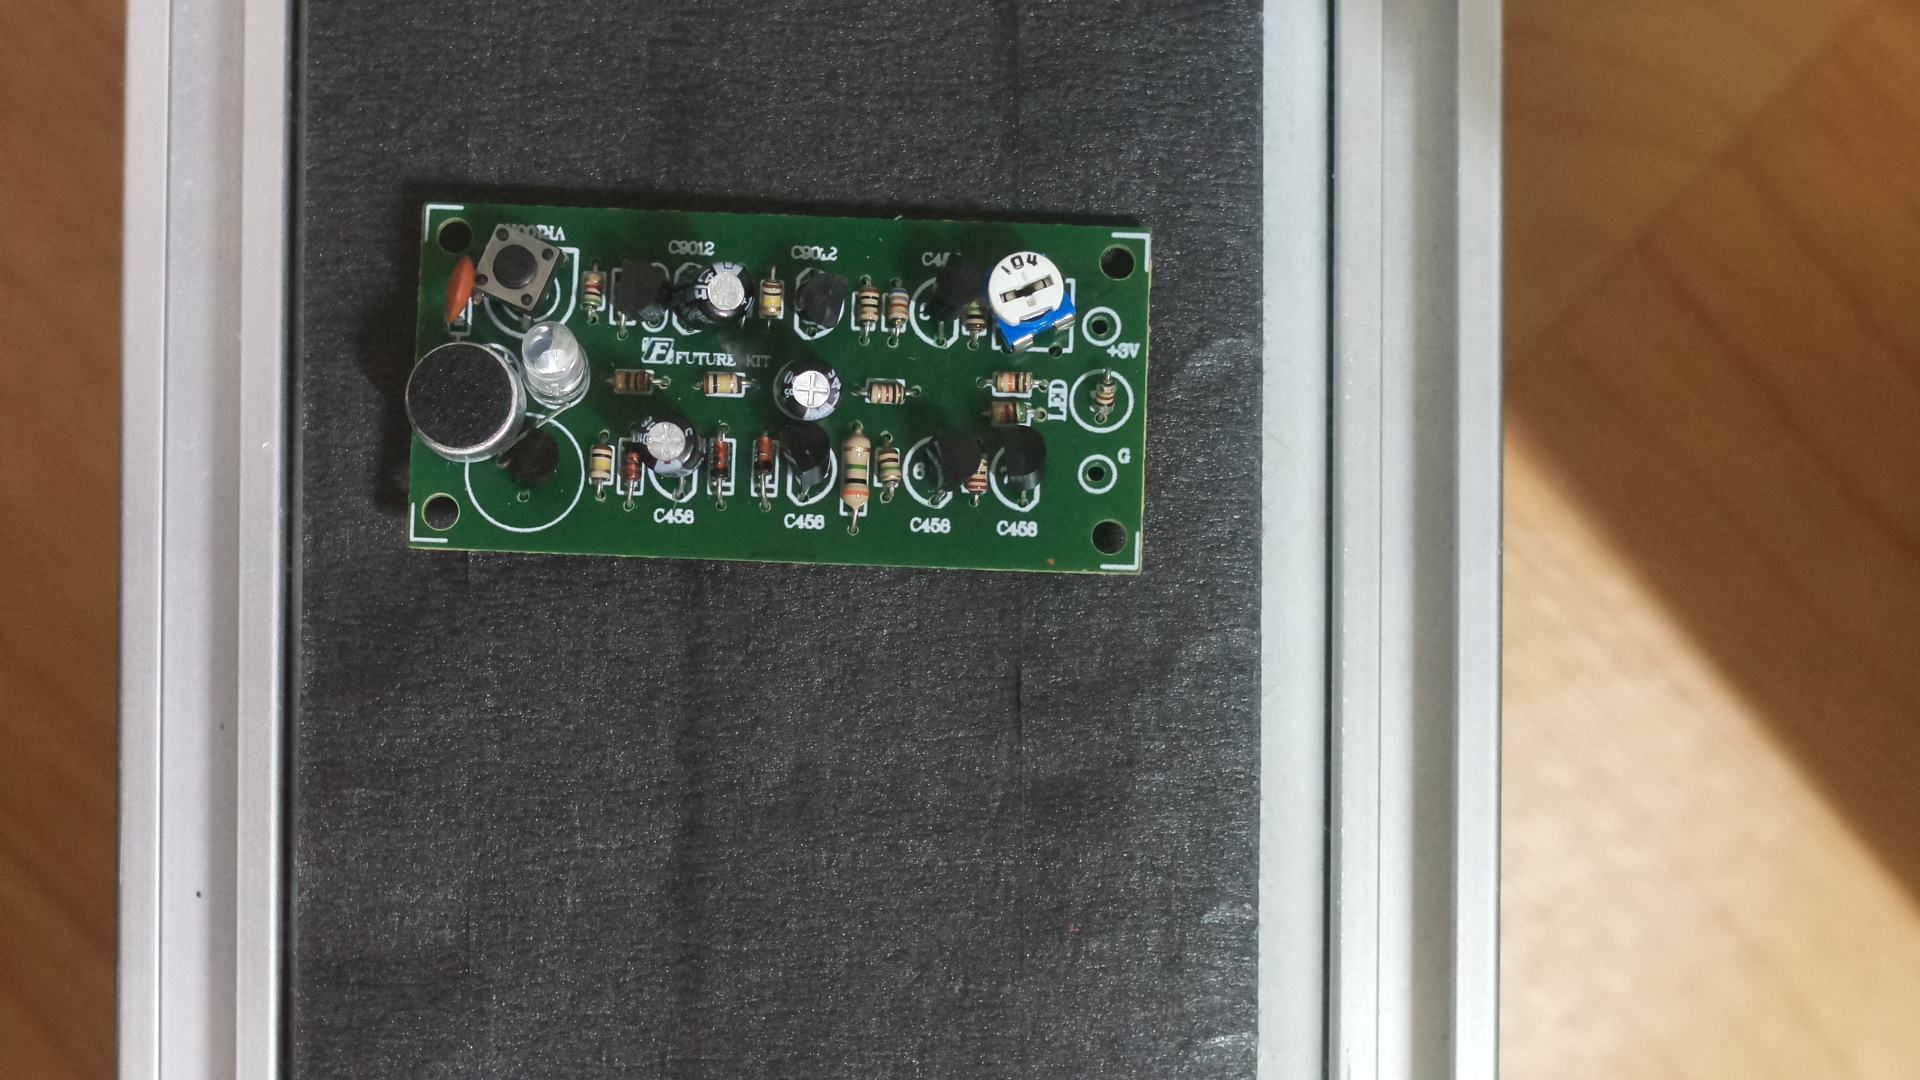A_Misordered: (397, 177, 1171, 596)
